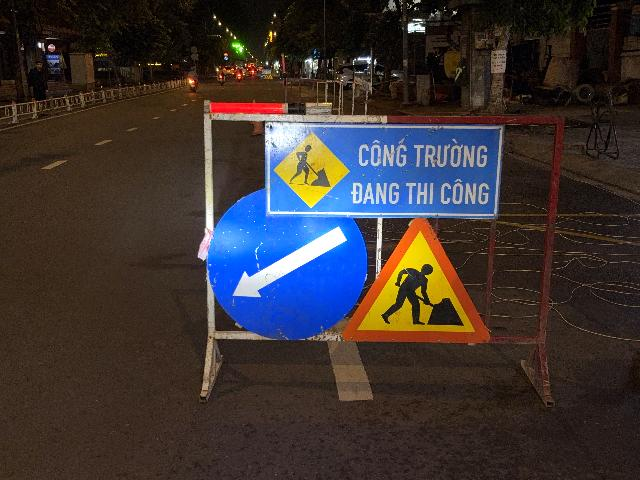cong-truong-dang-thi-cong: (341, 218, 490, 344)
huong-phai-di-vong-chuong-ngai-vat: (206, 188, 368, 340)
